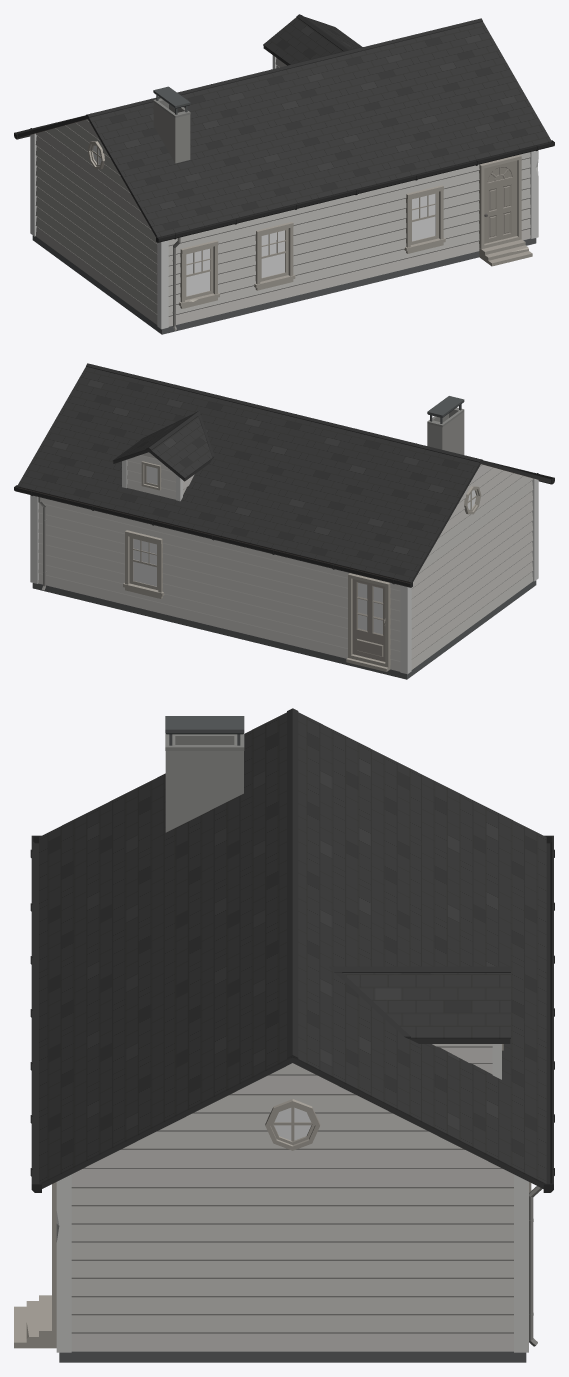
Rendered from SM_Bldg_Suburb_House_01.fbx.
3 views of the same model, one above another, from view 1: azimuth 30°, elevation 25°; view 2: azimuth 150°, elevation 25°; view 3: azimuth 270°, elevation 25° (orthographic). The views are drawn at different scales.
Parts seen in each view (by area): view 1: SM_Bldg_Suburb_House_01, SM_Bldg_Suburb_House_01_Glass; view 2: SM_Bldg_Suburb_House_01, SM_Bldg_Suburb_House_01_Glass; view 3: SM_Bldg_Suburb_House_01, SM_Bldg_Suburb_House_01_Glass.
Boxes of the visible parts, x1,y1,x2,y2 form: SM_Bldg_Suburb_House_01: (14, 14, 554, 334); SM_Bldg_Suburb_House_01_Glass: (93, 145, 435, 296); SM_Bldg_Suburb_House_01: (14, 363, 554, 679); SM_Bldg_Suburb_House_01_Glass: (133, 466, 475, 586); SM_Bldg_Suburb_House_01: (14, 708, 554, 1362); SM_Bldg_Suburb_House_01_Glass: (274, 1107, 311, 1140).
Bounding box in the file's own units: 1317 × 624 × 864.
